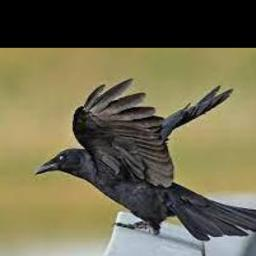Crow: (34, 78, 256, 241)
